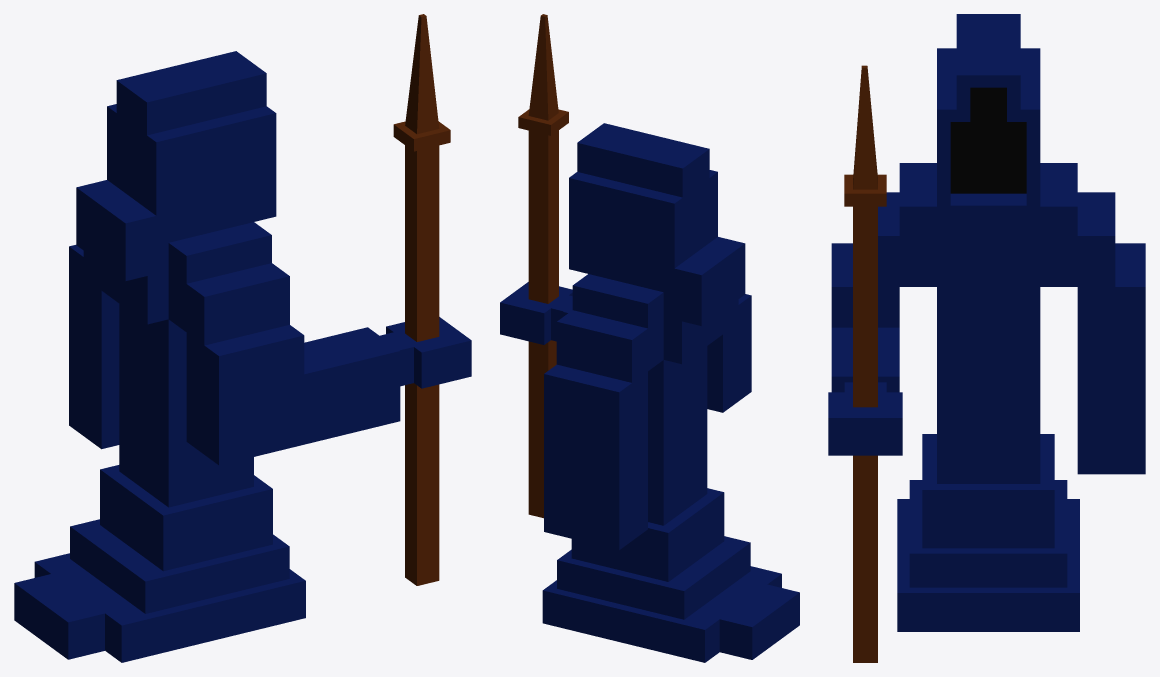
Rendered from player.fbx.
3 renders of one model, left to right at view 1: azimuth 30°, elevation 25°; view 2: azimuth 150°, elevation 25°; view 3: azimuth 270°, elevation 25°, orthographic. The views are drawn at different scales.
Parts seen in each view (by area): view 1: Player; view 2: Player; view 3: Player.
Boxes of the visible parts, x1,y1,x2,y2 form: Player: (14,14,471,662); Player: (500,14,799,662); Player: (828,14,1145,662).
Bounding box in the file's own units: 469 × 746 × 348.
